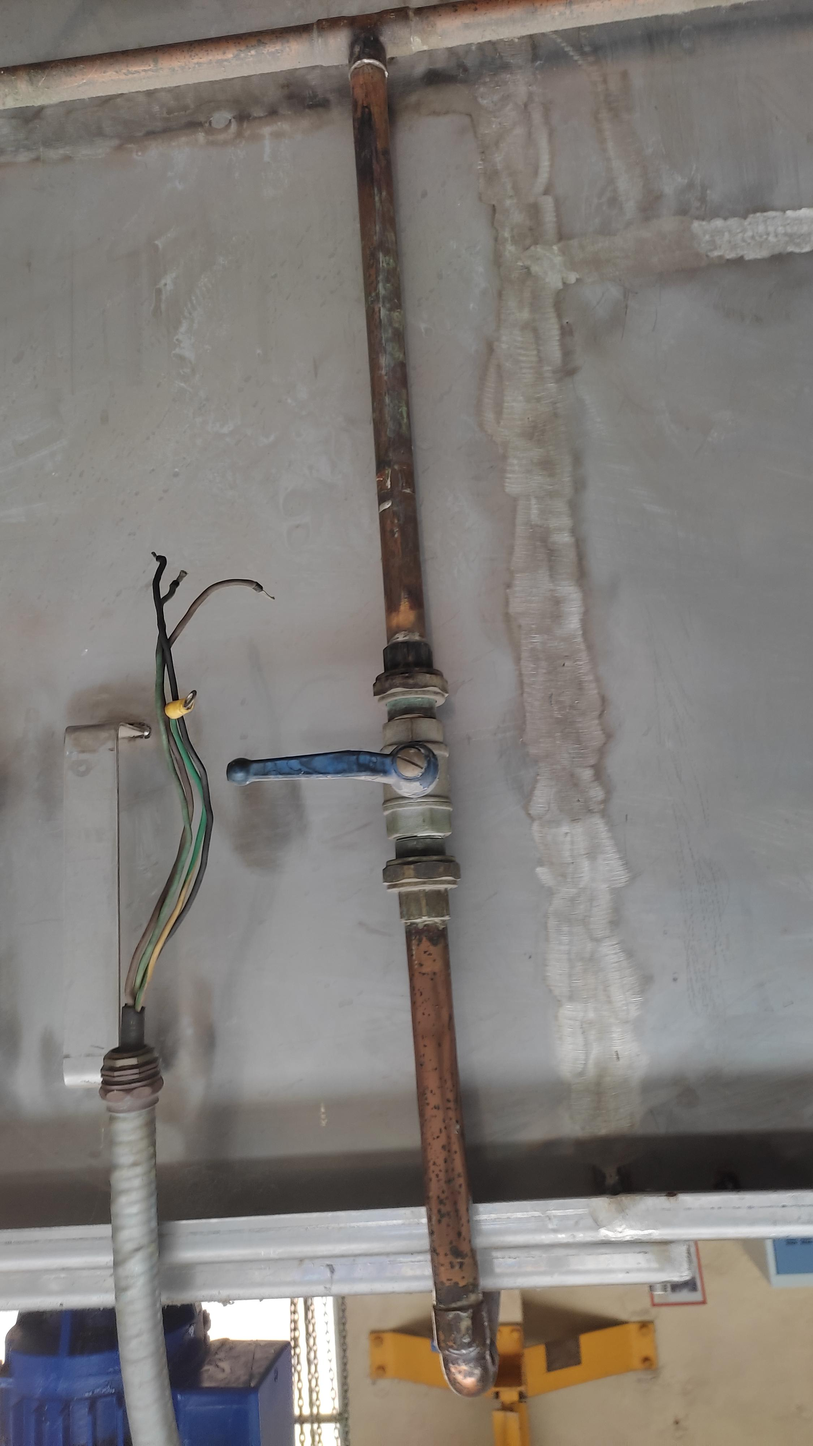closed valve: (221, 714, 463, 845)
